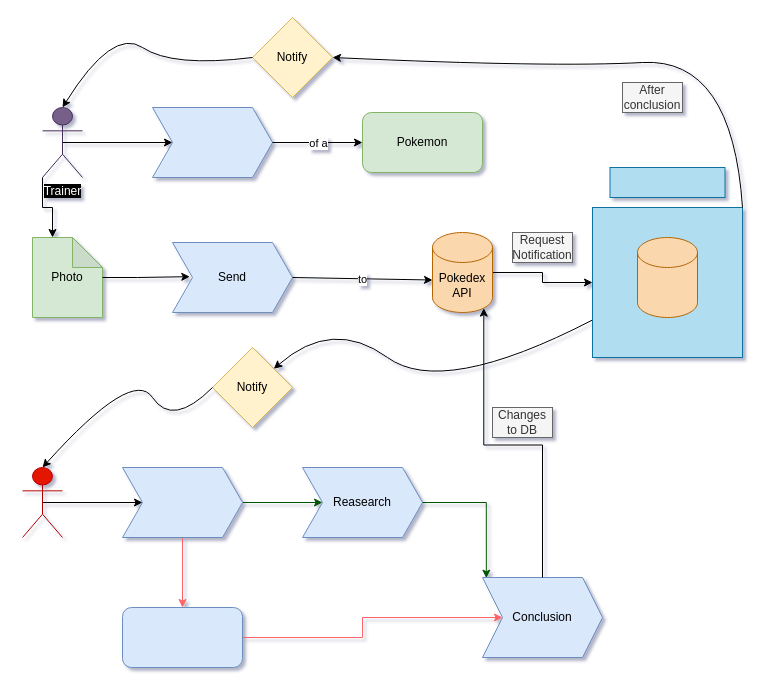
Image size: 766x691. Some labels were removed from this diagram. The shapes that lost their labels are listed below. From the top down, each one's centre as x and y in pixels, then its label:
pixel 212 142: Take a photo
pixel 667 182: NOTIFICATION SYSTEM
pixel 667 277: System
pixel 42 502: Professor
pixel 182 502: Validate
pixel 182 637: Invalidate Request
